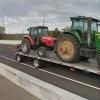Tractor: (17, 14, 97, 63)
